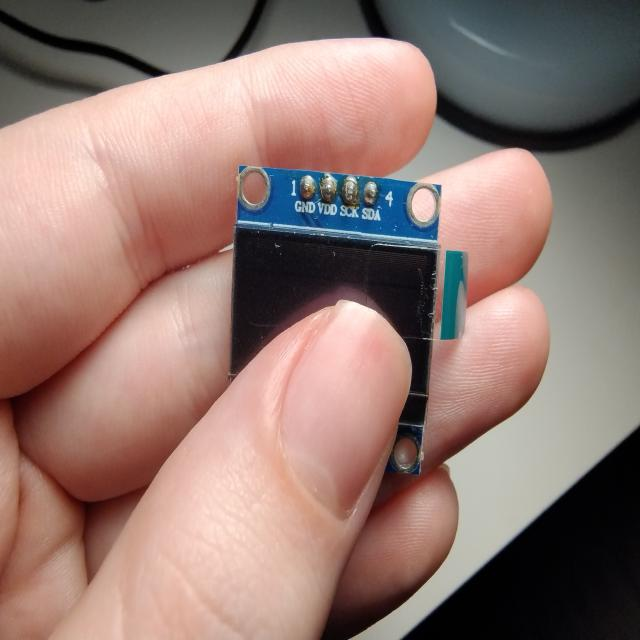oled: (232, 163, 432, 474)
